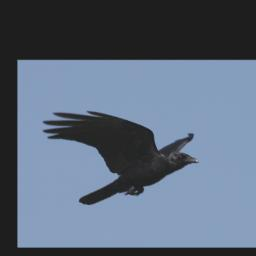Crow: (42, 109, 201, 206)
